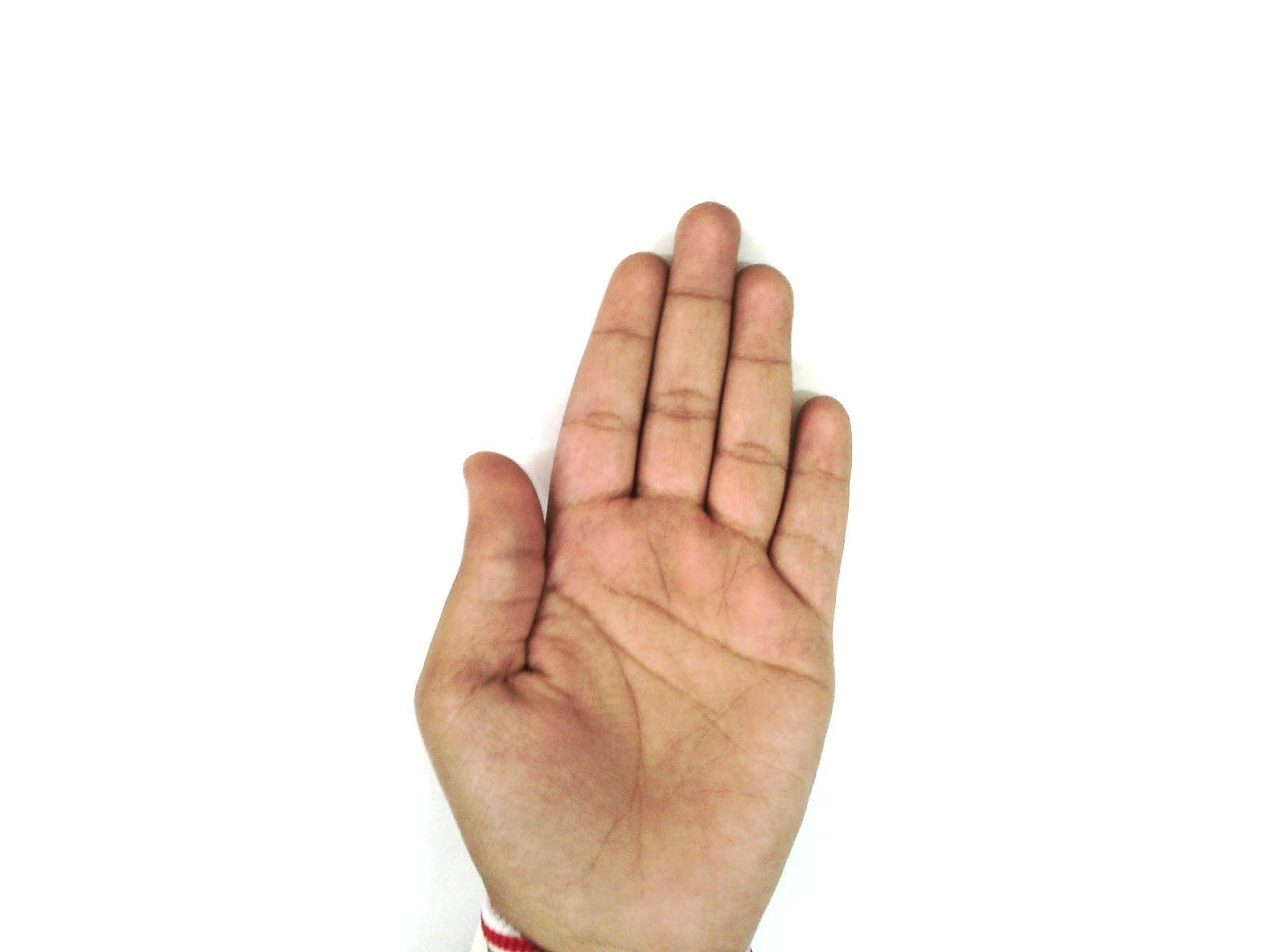open_palm: (412, 201, 857, 951)
